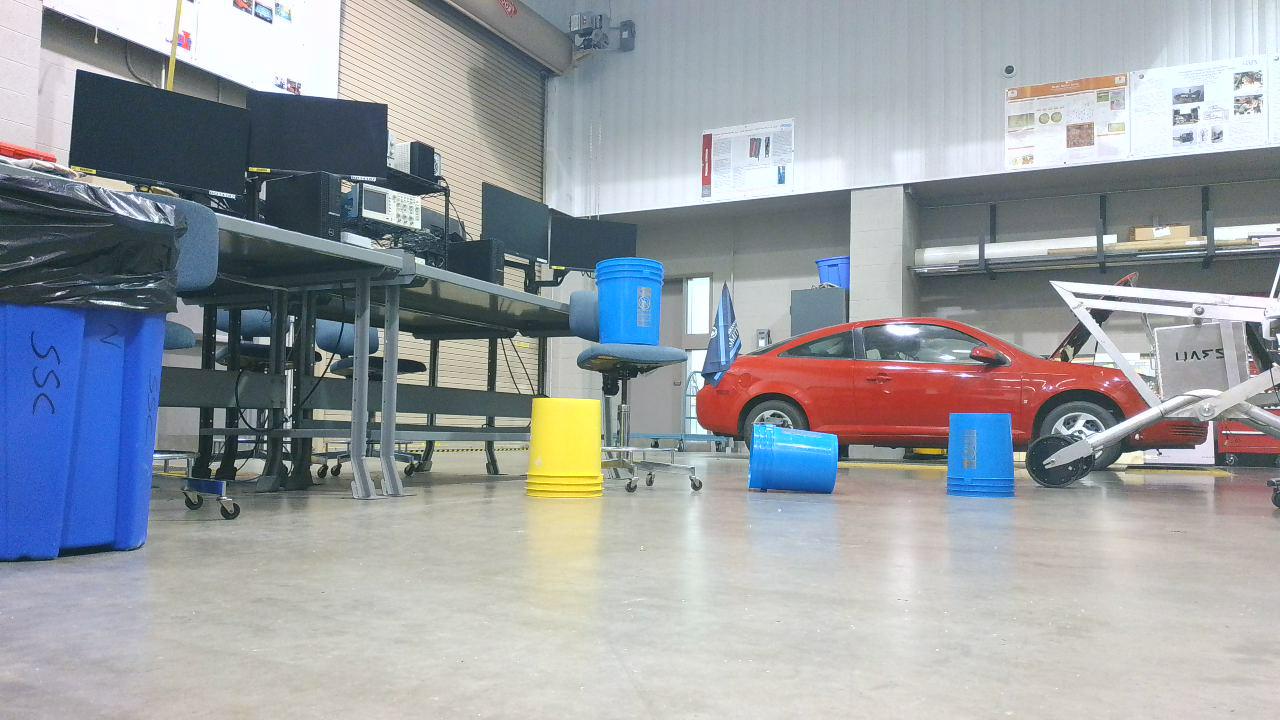blue_bucket: (749, 425, 845, 504), (597, 260, 673, 354), (947, 414, 1025, 505)
yellow_bucket: (527, 399, 614, 506)
